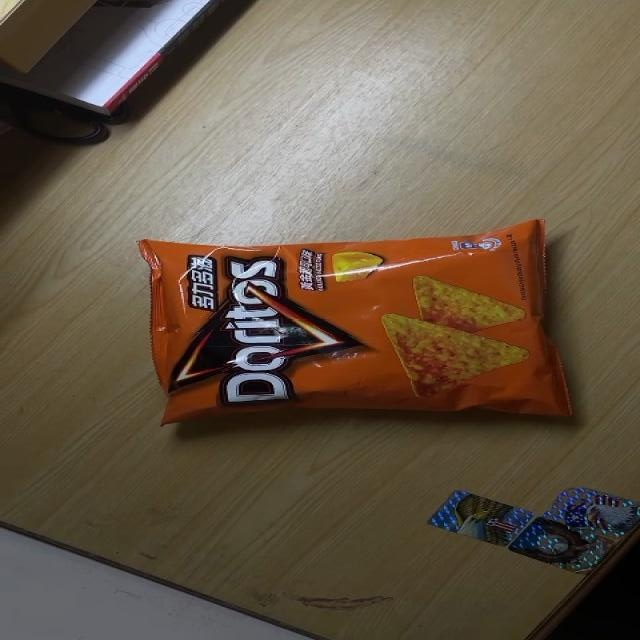Doritos: (134, 218, 573, 427)
